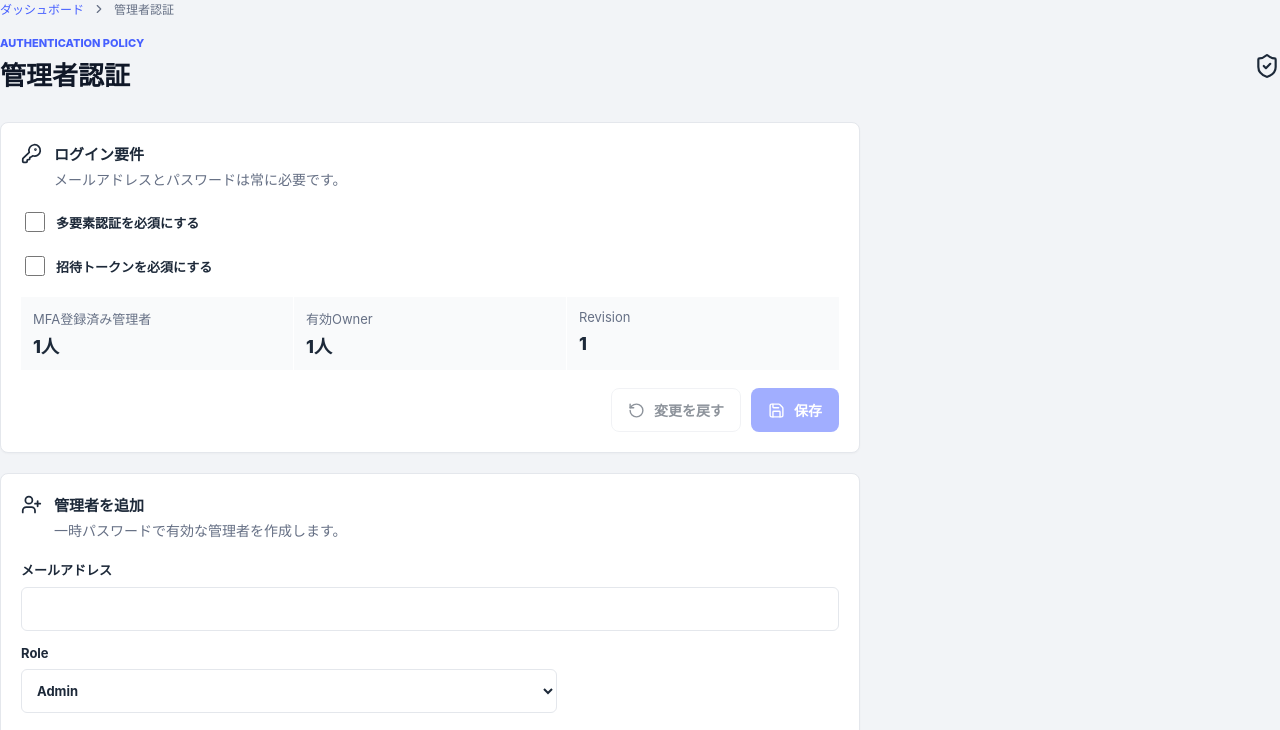
Test: AdminAuthenticationSettings › updates invitation policy without a password and preserves the MFA toggle
Check: the heading "ログイン要件" is shown, box [54,145,144,164]
Check: the text "1人" is shown 2 times, box [33,336,59,357]; [306,336,332,357]
Click the checkbox labelled "招待トークンを必須にする": (35, 266) [25,256,45,276]
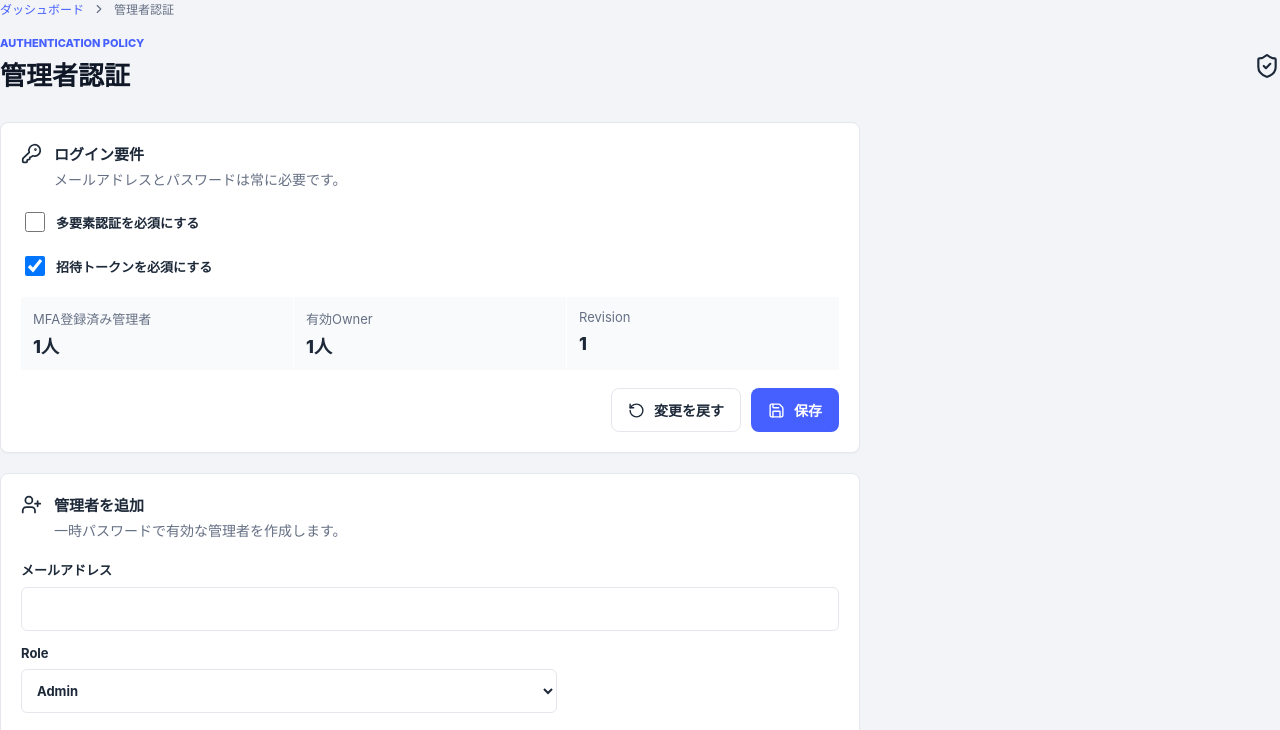
Click the button "保存": (795, 410) [751,388,839,432]
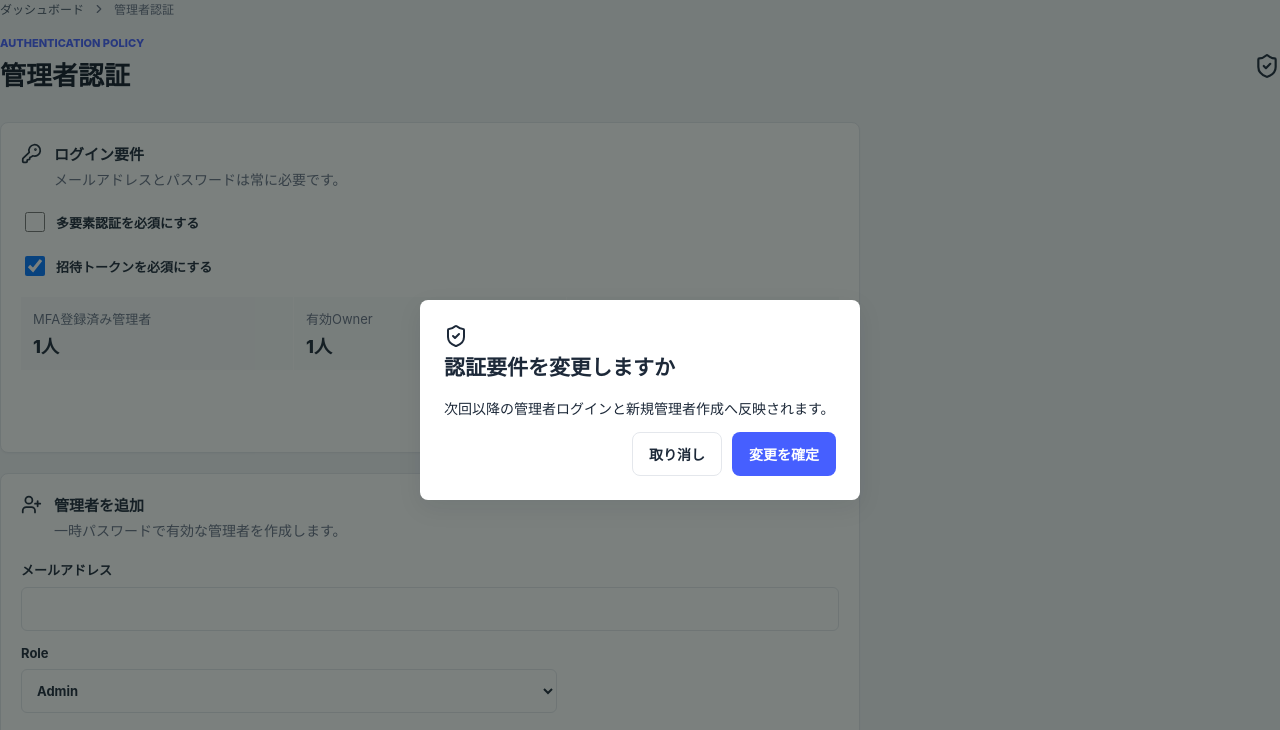
Click the button "変更を確定": (784, 454) [732,432,836,476]
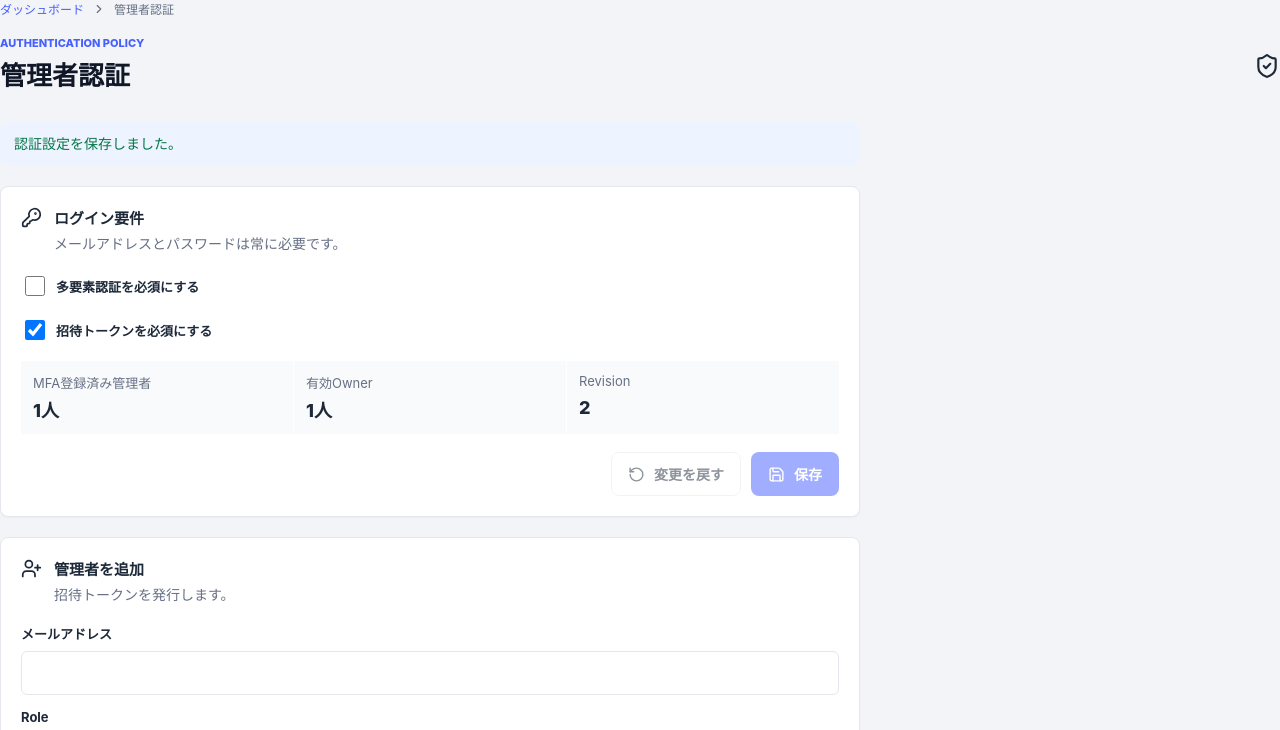
Check: the checkbox labelled "多要素認証を必須にする" is not checked, box [25,276,45,296]
Check: the text "認証設定を保存しました。" is shown, box [0,122,860,166]
